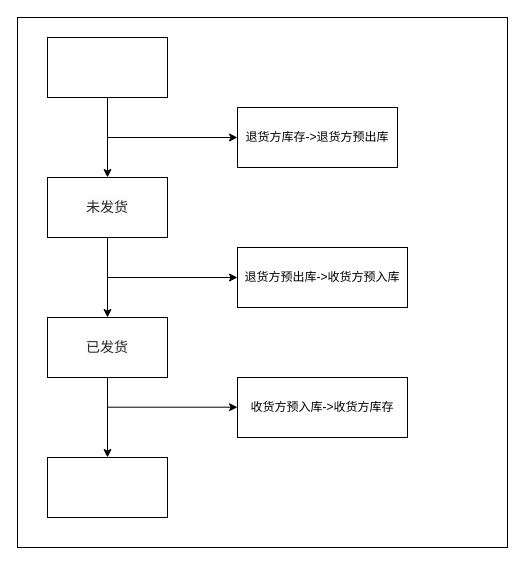
Image size: 525x565. Some labels were removed from this diagram. Each missing label, with the box of its shape:
审批中: (46, 36, 168, 98)
已完成: (46, 456, 168, 518)
